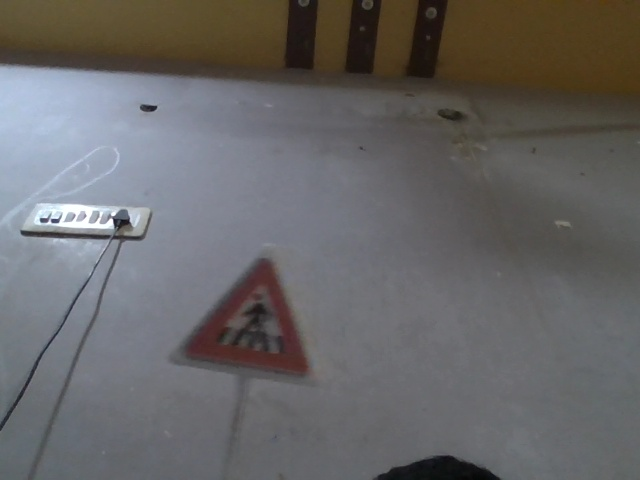crossing: (197, 219, 332, 387)
